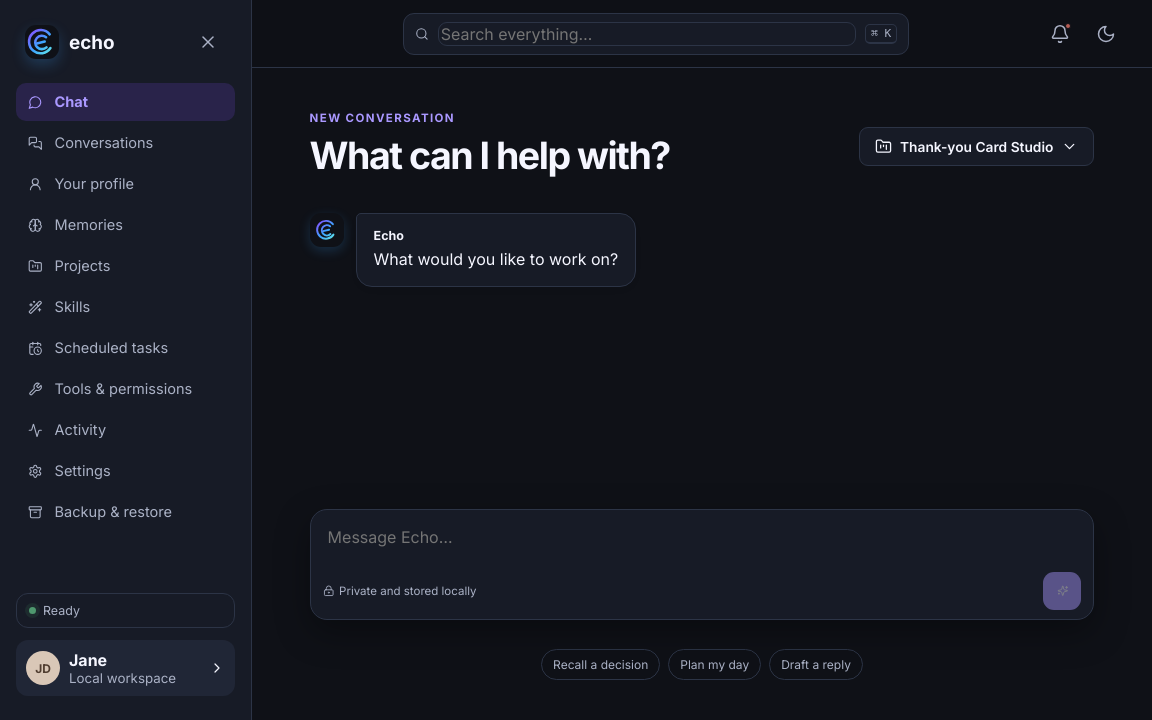
Test case: Echo desktop › shows the release version in Settings
Click the button "Settings" at (126, 471), box [16, 452, 235, 490]
(page scrolled)
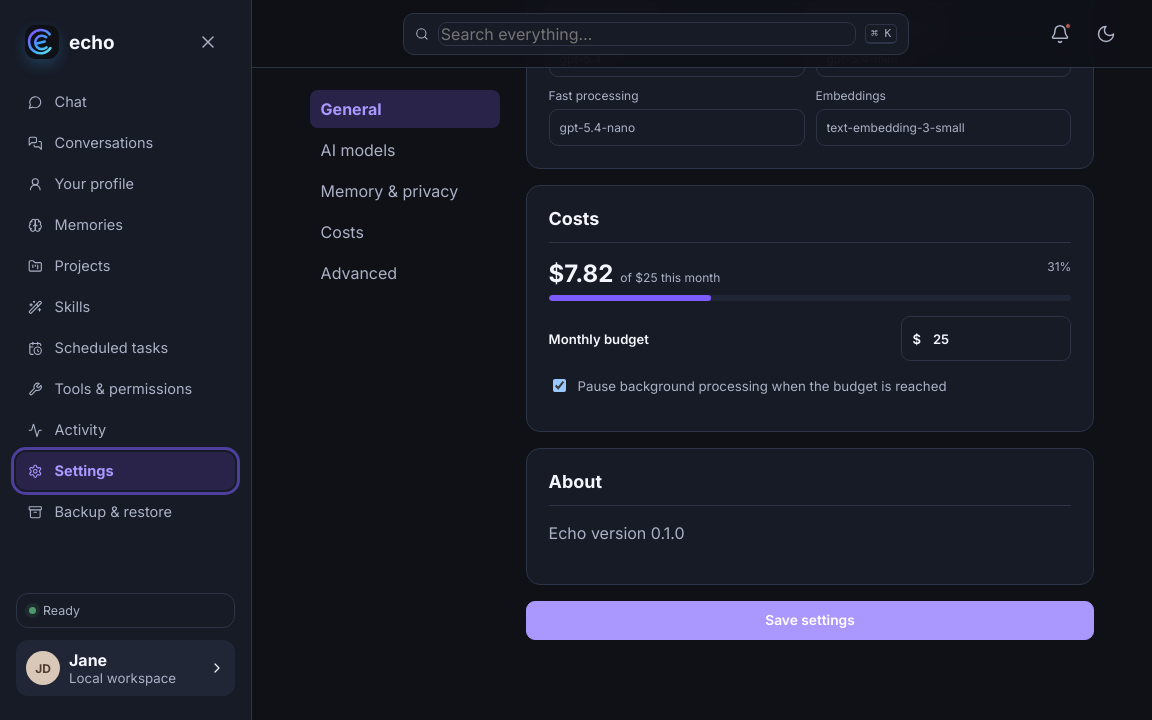
Now the text "Echo version 0.1.0" is shown, box [549, 523, 684, 543]
